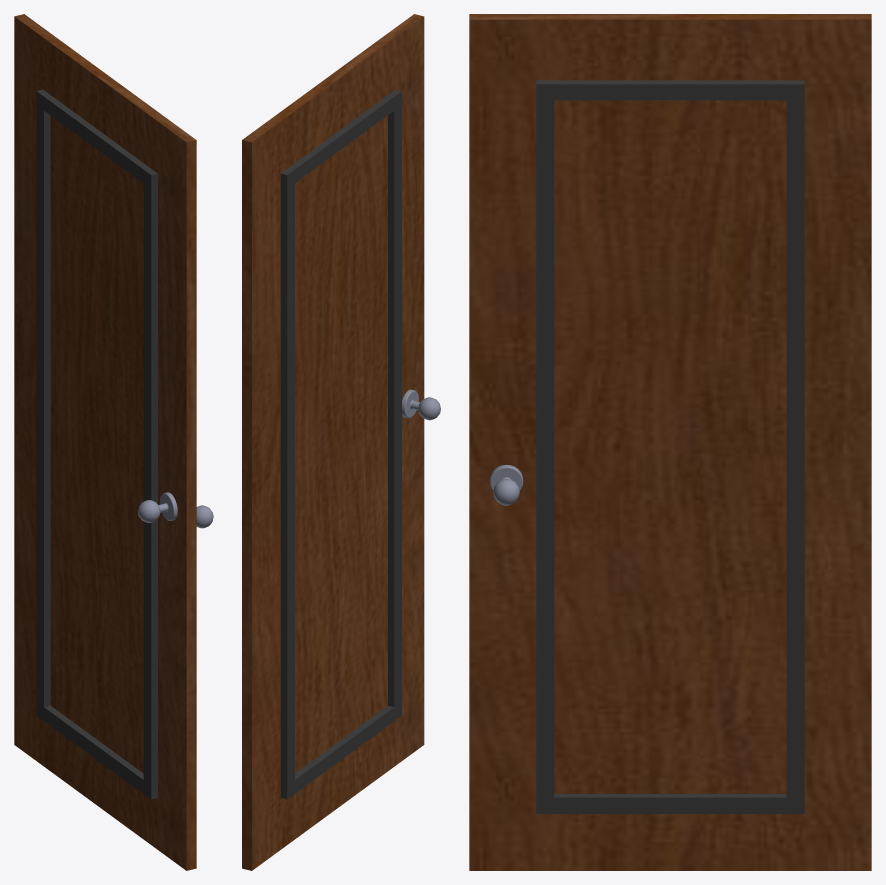
File: Door01.fbx
3 views of the same model, side by side, from view 1: azimuth 30°, elevation 25°; view 2: azimuth 150°, elevation 25°; view 3: azimuth 270°, elevation 25° (orthographic). The views are drawn at different scales.
Visible parts, largest first — view 1: Group2, Door_handle2; view 2: Group2, Door_handle2; view 3: Group2, Door_handle1.
Part boxes in pixels (x1,y1,x2,y2): Group2: (14,14,196,870); Door_handle2: (138,492,177,522); Group2: (242,14,424,870); Door_handle2: (402,389,440,420); Group2: (469,14,871,870); Door_handle1: (489,464,523,505).
Size of the model in its own units: 220 by 2100 by 900.
